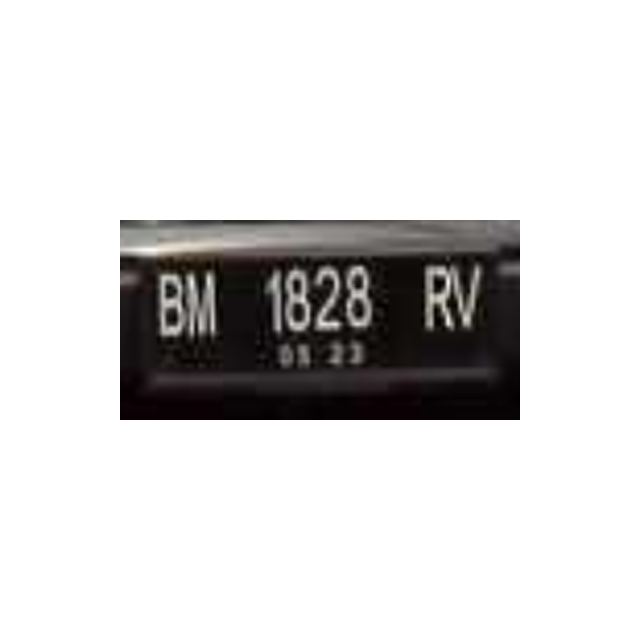contain: (249, 261, 284, 336), (452, 255, 485, 332), (423, 262, 457, 333), (186, 265, 218, 339), (312, 260, 344, 331), (346, 259, 377, 332), (155, 269, 186, 339), (285, 257, 314, 329)
